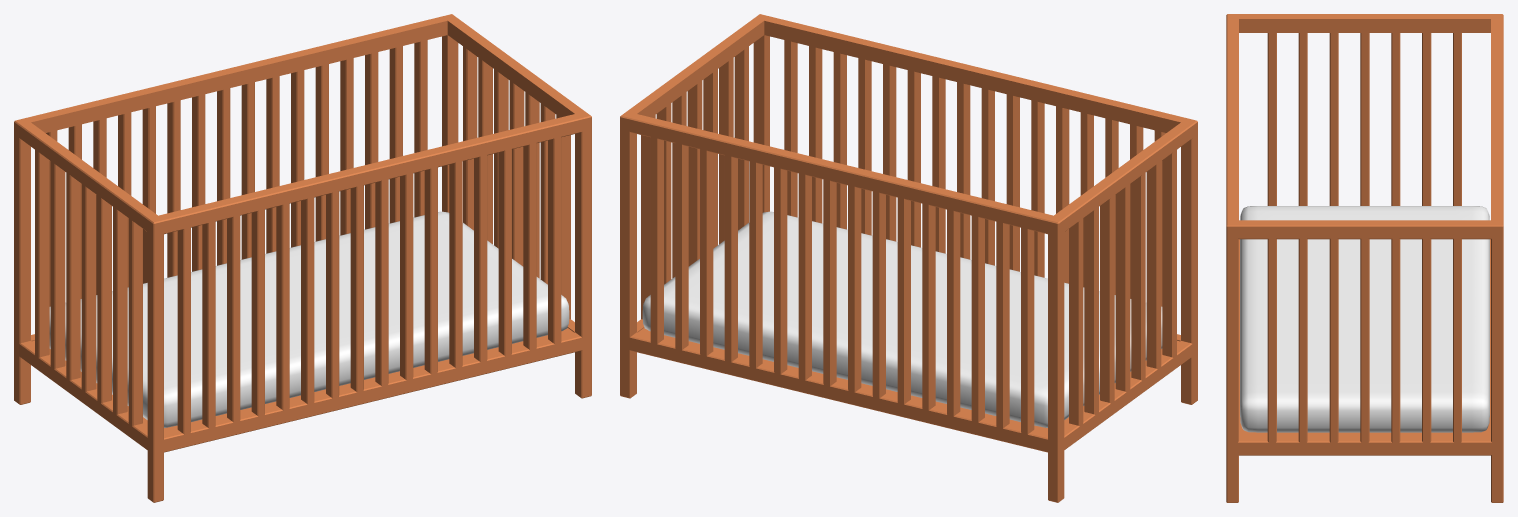
Rendered from Crib_V5.fbx.
3 views of the same model, side by side, from view 1: azimuth 30°, elevation 25°; view 2: azimuth 150°, elevation 25°; view 3: azimuth 270°, elevation 25° (orthographic).
Parts seen in each view (by area): view 1: Crib_V5; view 2: Crib_V5; view 3: Crib_V5.
Boxes of the visible parts, left/top/right/bottom form: Crib_V5: left=14, top=14, right=591, bottom=502; Crib_V5: left=620, top=14, right=1197, bottom=502; Crib_V5: left=1226, top=14, right=1503, bottom=502.
Bounding box in the file's own units: 138 × 84 × 76.
